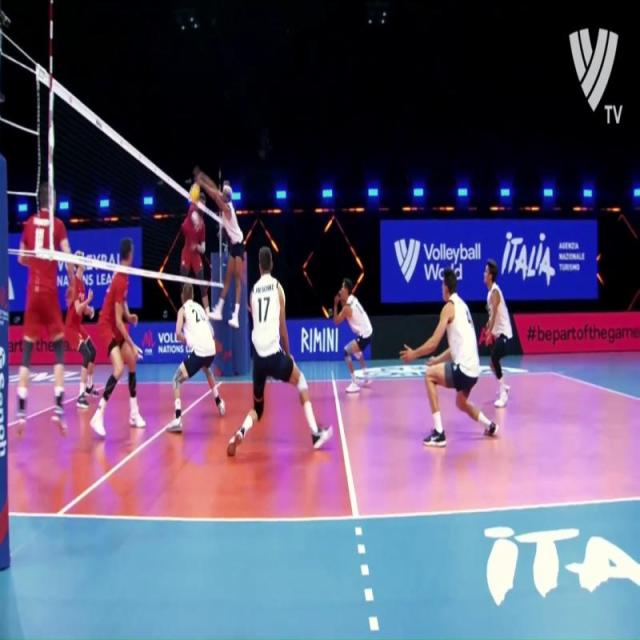volleyball: (190, 183, 200, 204)
